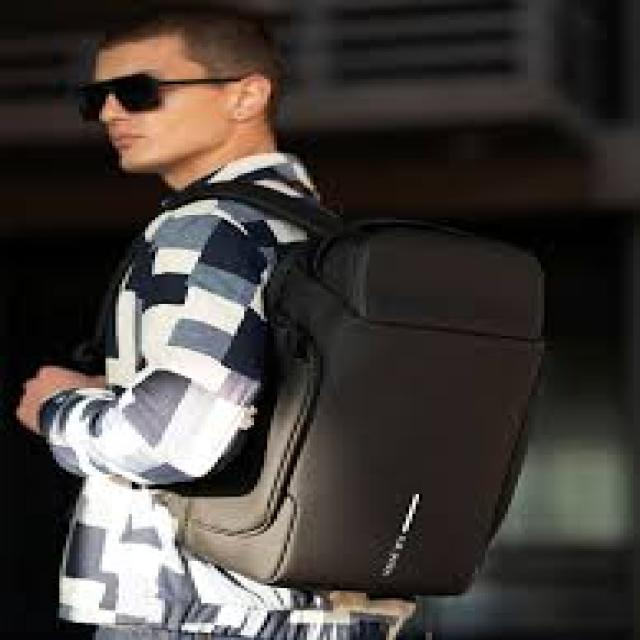backpack: (133, 179, 549, 599)
